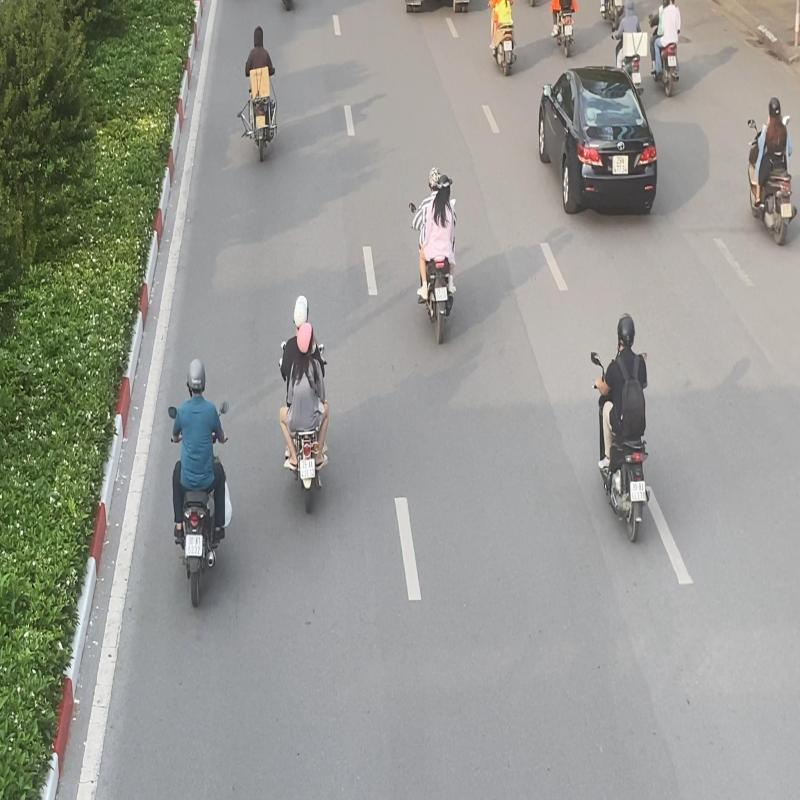helmet: (186, 356, 206, 398), (616, 311, 636, 350), (293, 295, 309, 330), (296, 322, 314, 353), (428, 166, 442, 190), (436, 173, 453, 192)
licenseplate: (184, 532, 204, 558), (299, 458, 316, 480), (630, 480, 646, 502), (435, 286, 448, 302)
motorcyclist: (166, 356, 234, 610), (589, 310, 649, 544), (278, 294, 330, 514), (408, 166, 458, 346)
